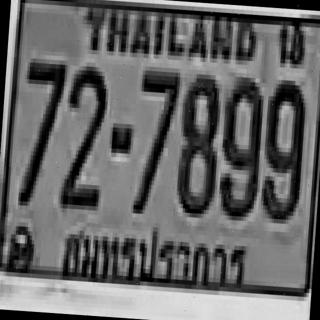N02: (58, 61, 108, 206)
N07: (15, 58, 66, 203), (131, 66, 178, 211)
N08: (173, 69, 220, 214)
N09: (216, 72, 264, 217), (259, 75, 306, 220)
P57: (57, 216, 251, 295)
